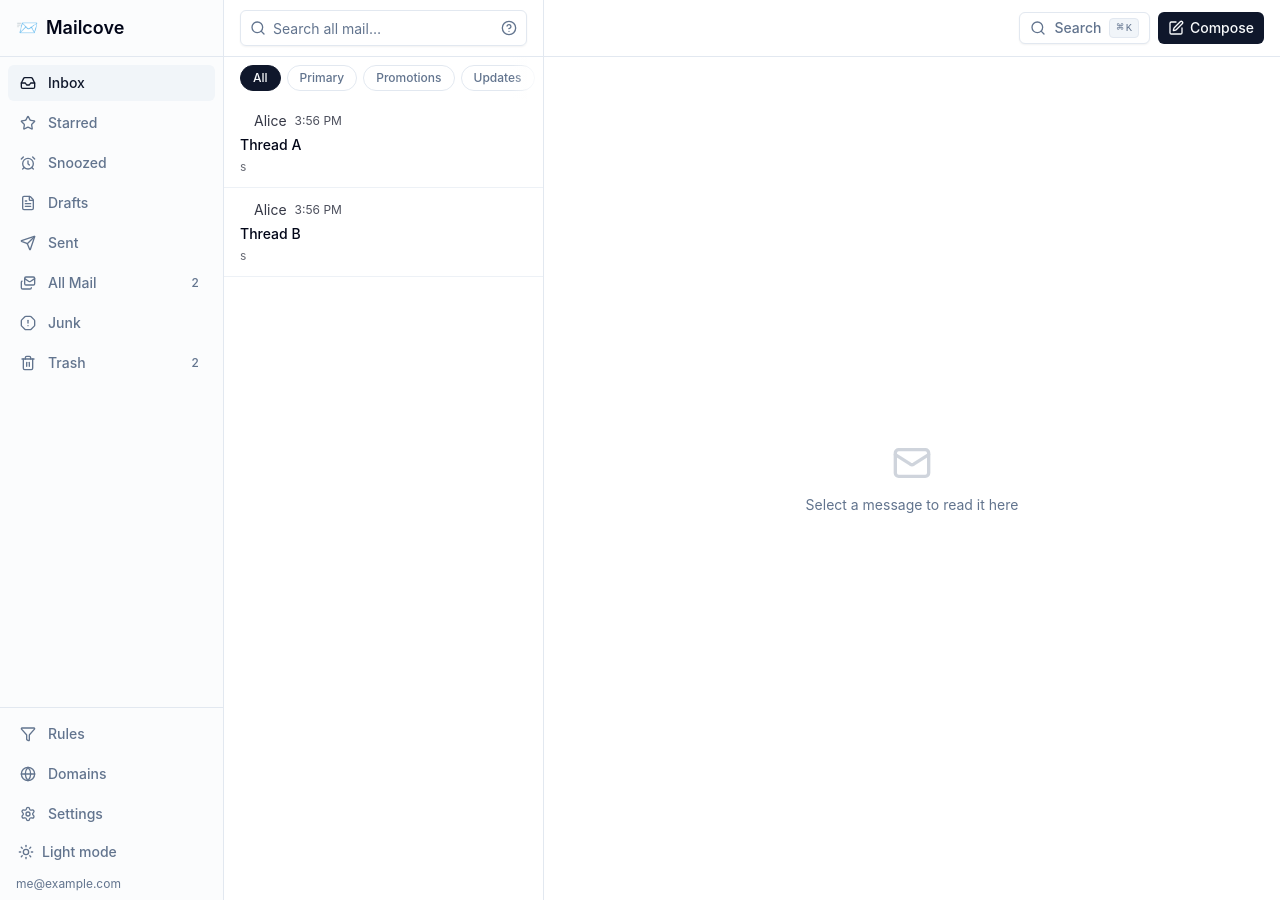
mobile Back with a dialog open over the reader › closing compose with its own button does not close the reader underneath
Click the text "Thread A". click: (271, 145)
box: [240, 135, 301, 155]
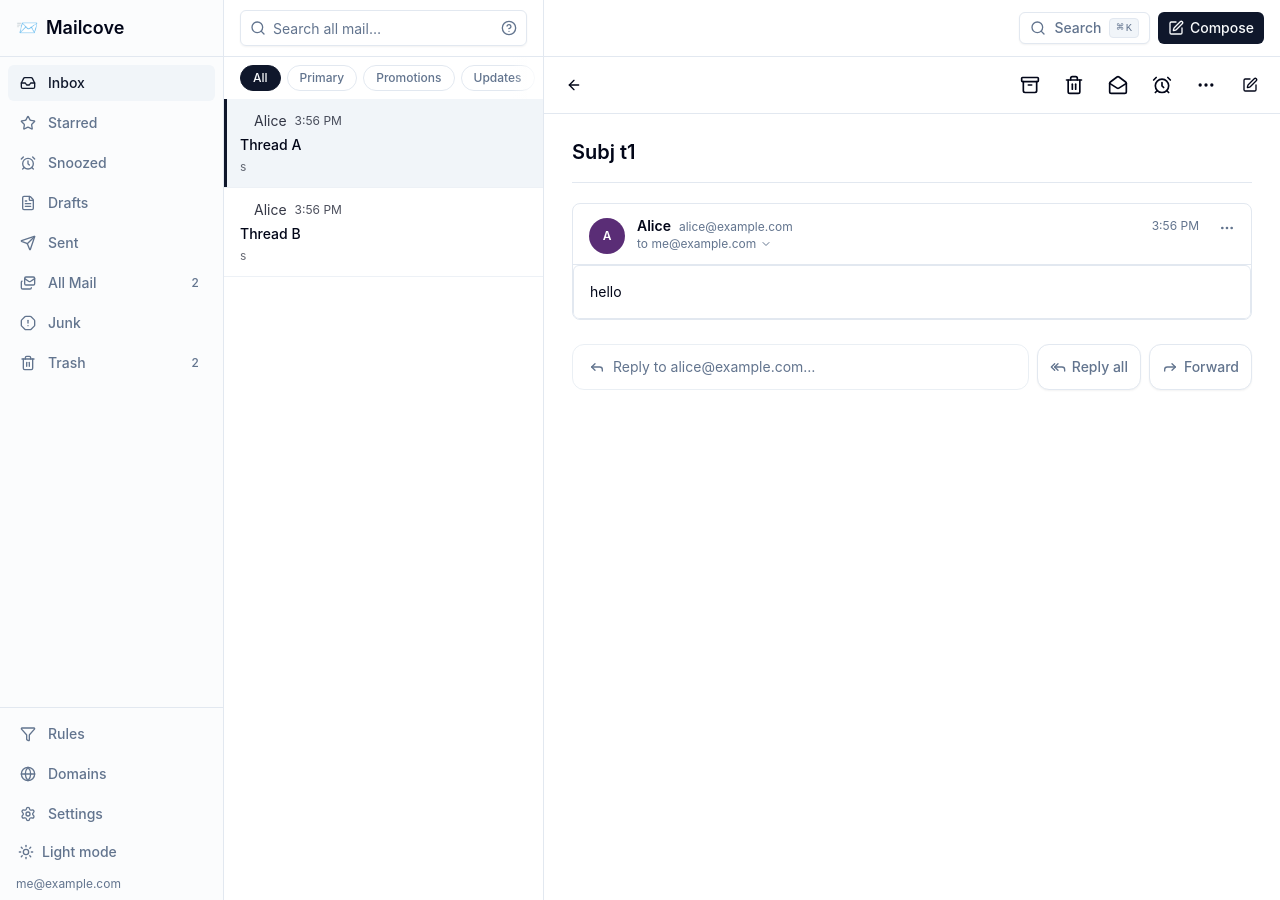
Expected: the button named "back to list" is shown, [552, 63, 596, 107]
Click the button "Compose". click: (1211, 28)
box: [1158, 12, 1264, 44]
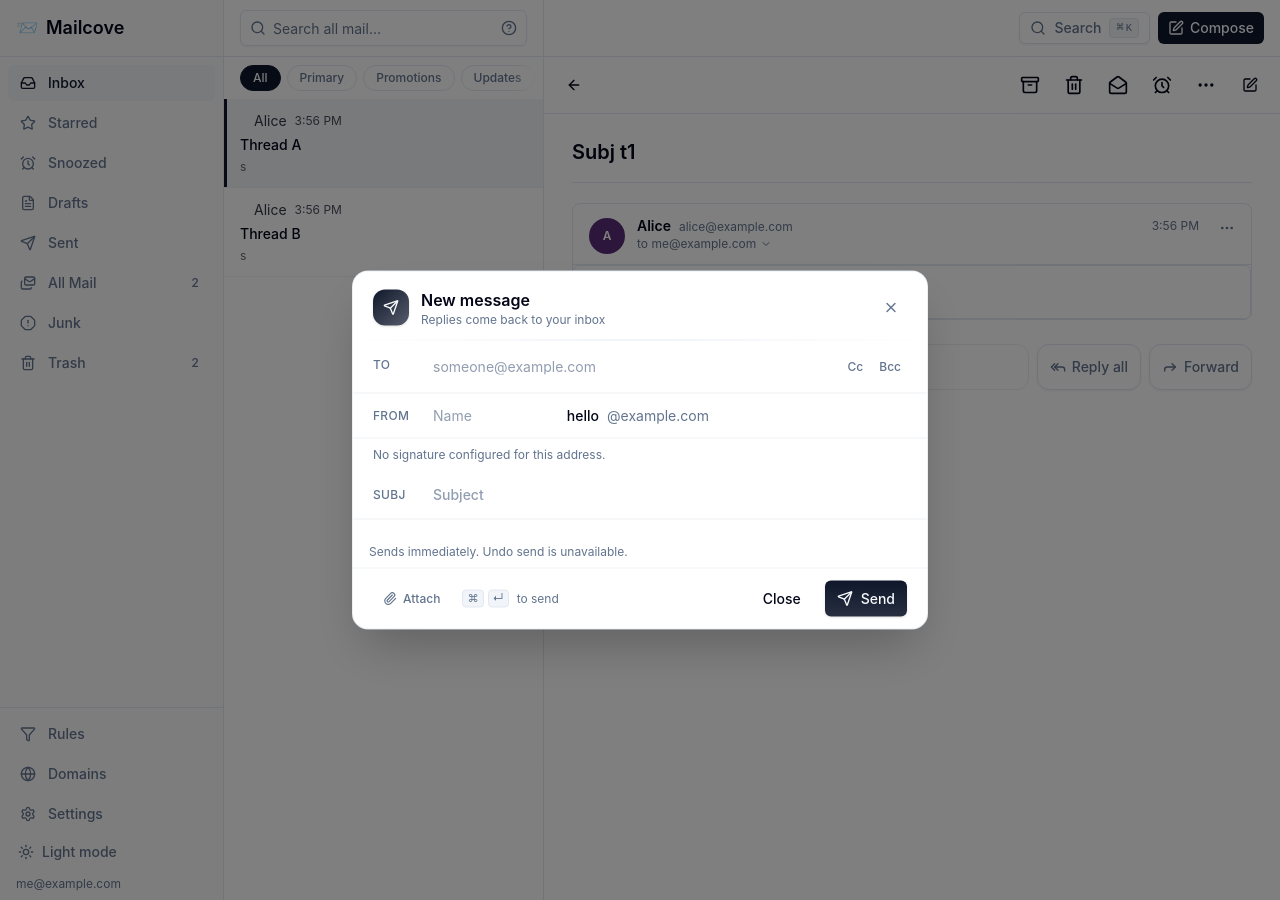
Click the button named "Close". click: (891, 308)
box: [875, 292, 907, 324]
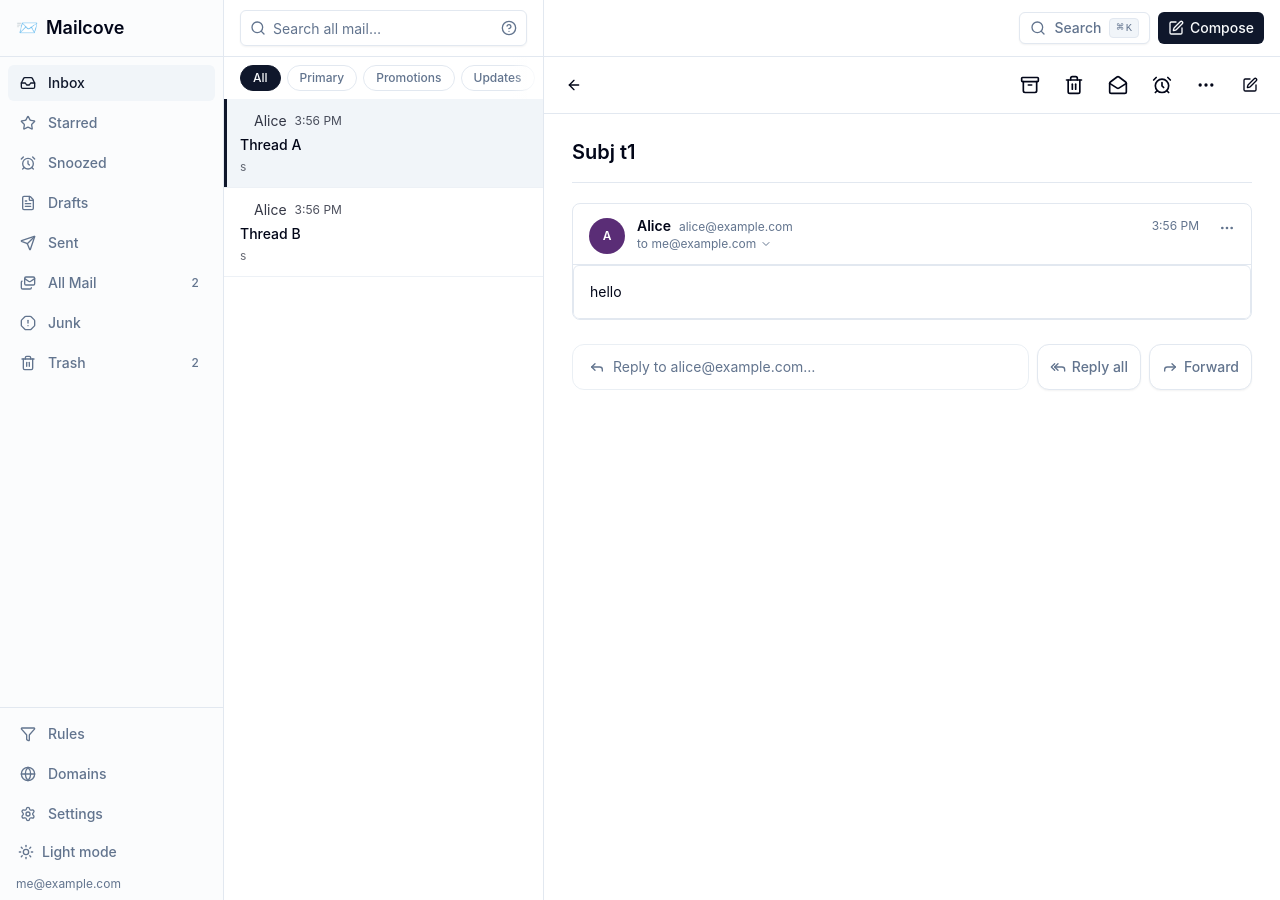
Expected: the button named "back to list" is shown, [552, 63, 596, 107]
Expected: the dialog is gone
